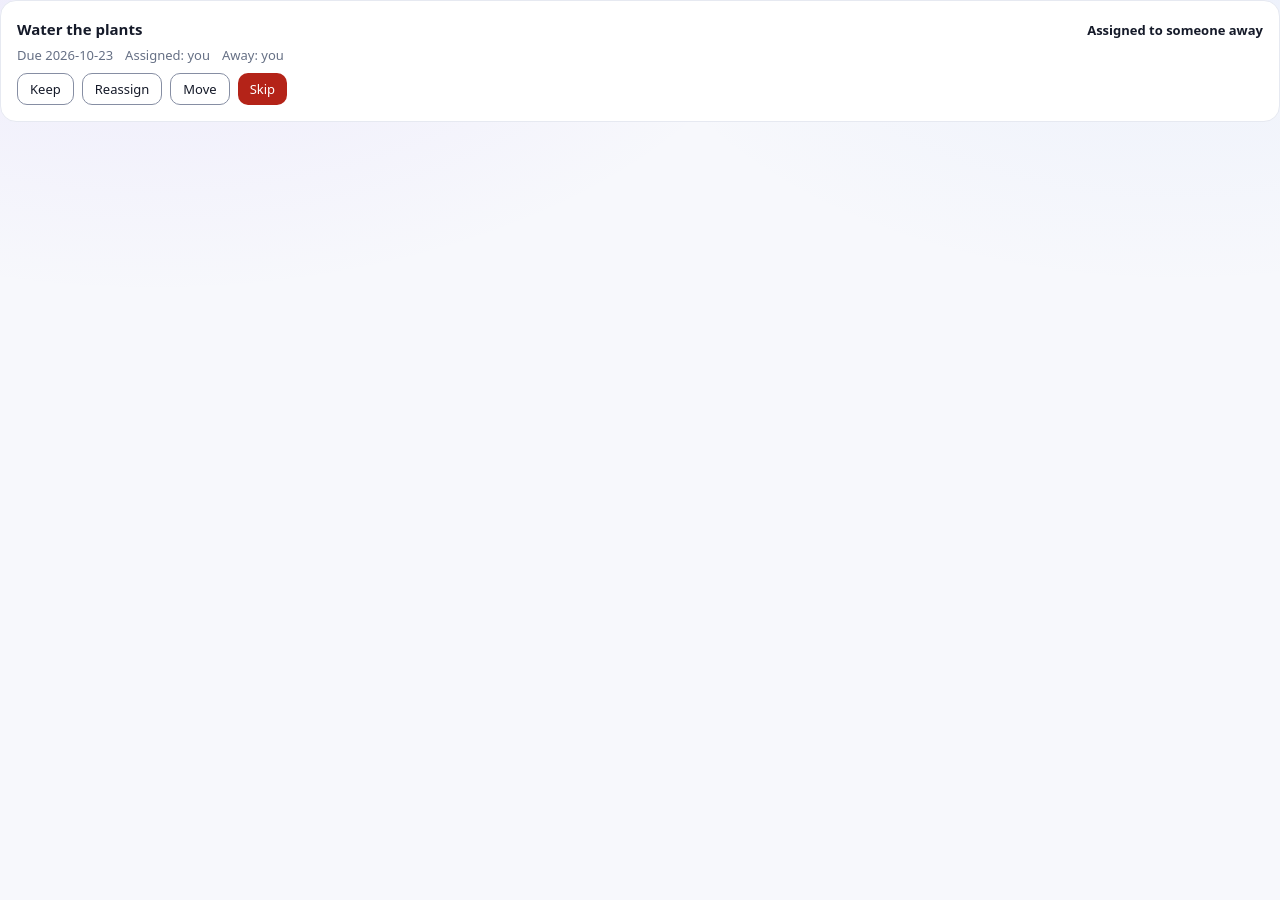
deciding an affected chore › asks for a member before sending a reassignment
What coordinates should you click on to do the following:
click the button with test id "decision-reassign-open"
I would click on:
 (122, 89)
Its box is [82,73,162,105].
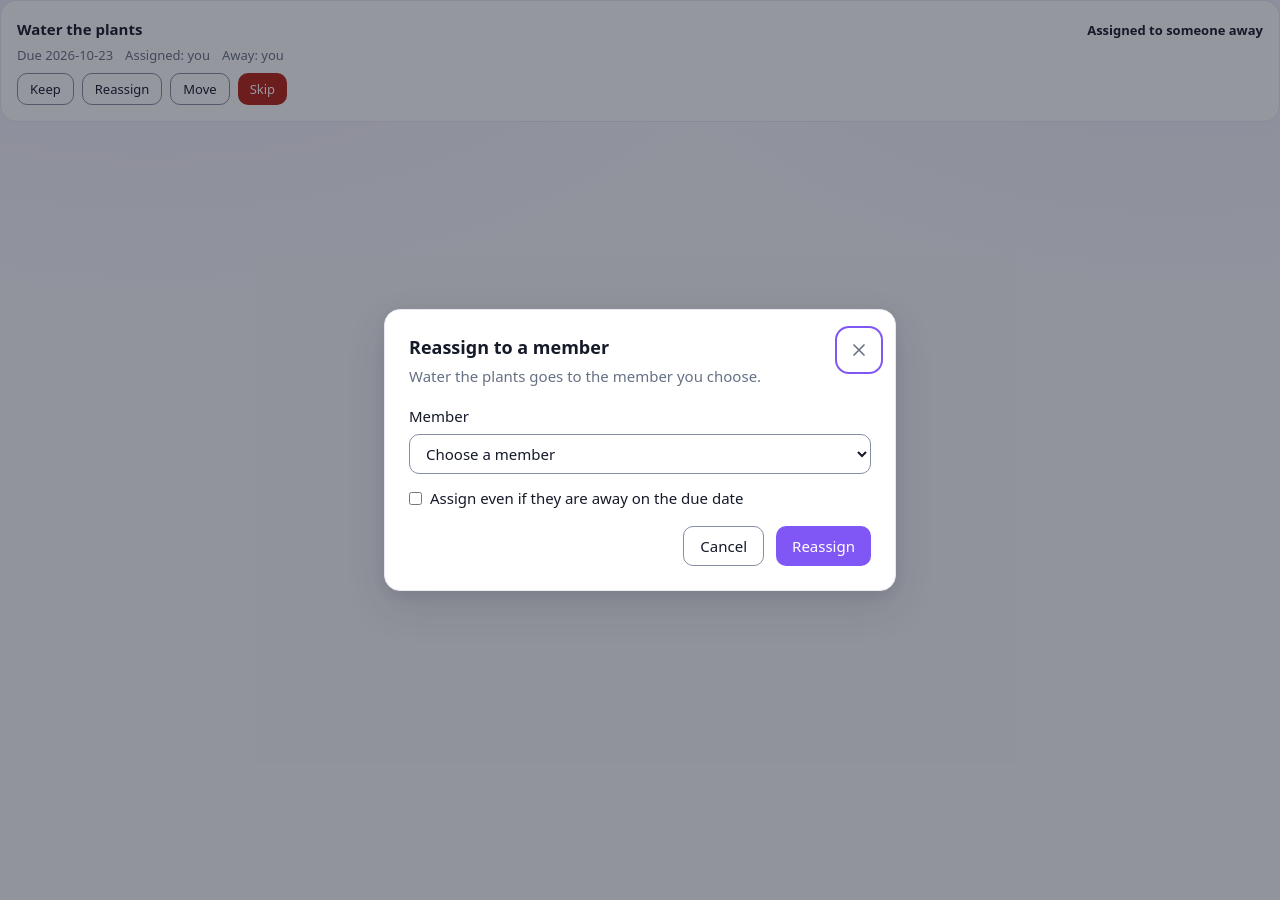
What coordinates should you click on to do the following:
click the button with test id "decision-reassign-next"
I would click on:
 (824, 546)
Its box is [776,526,871,566].
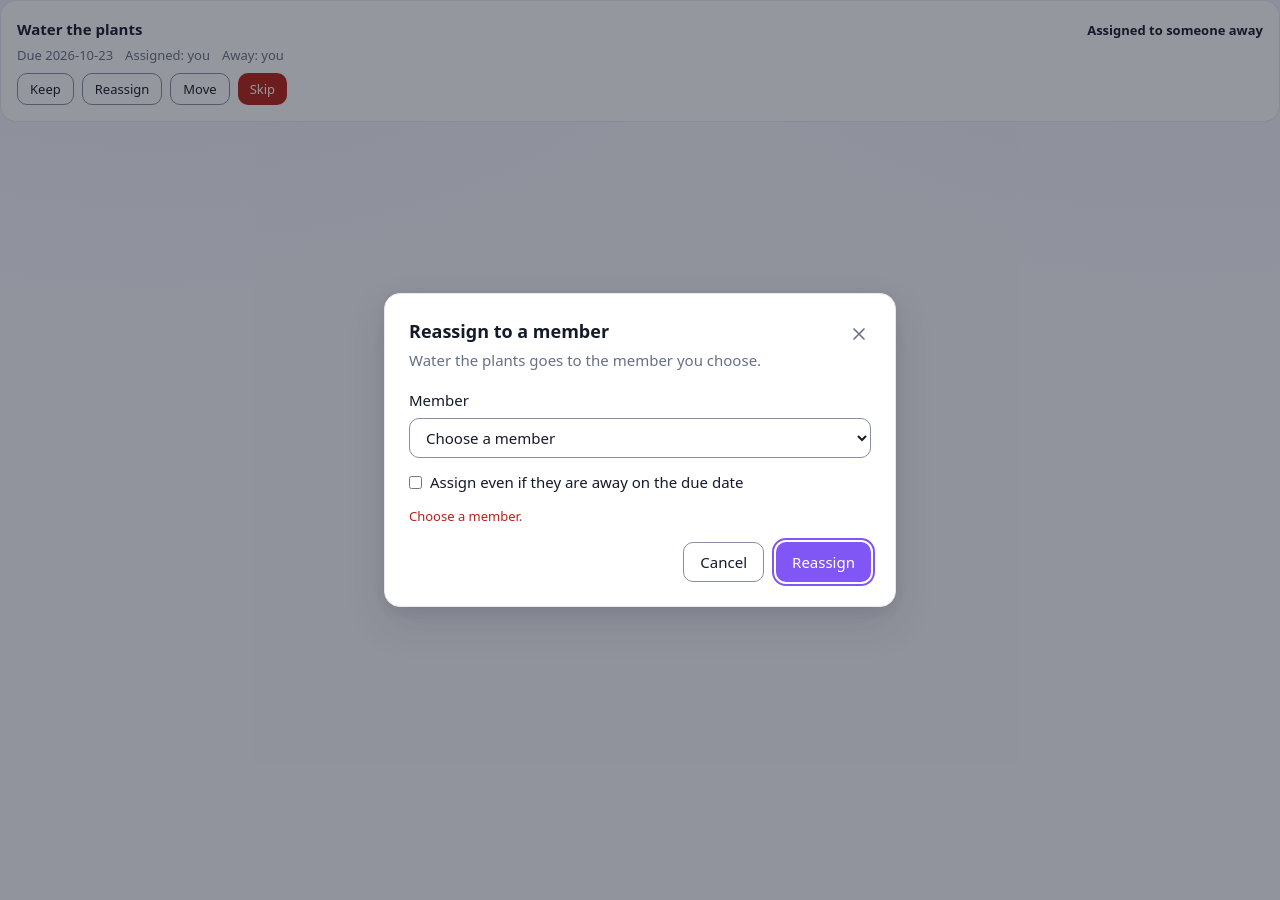
Check: the message "Choose a member." is shown, box [409,507,522,525]
